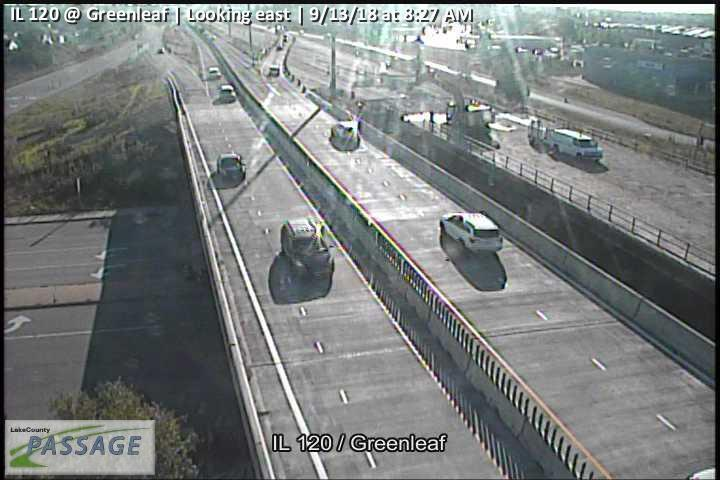SUV: (282, 217, 335, 278), (437, 208, 503, 252), (214, 151, 246, 181), (329, 119, 361, 149), (219, 84, 236, 101), (208, 66, 222, 80), (268, 64, 280, 76)
